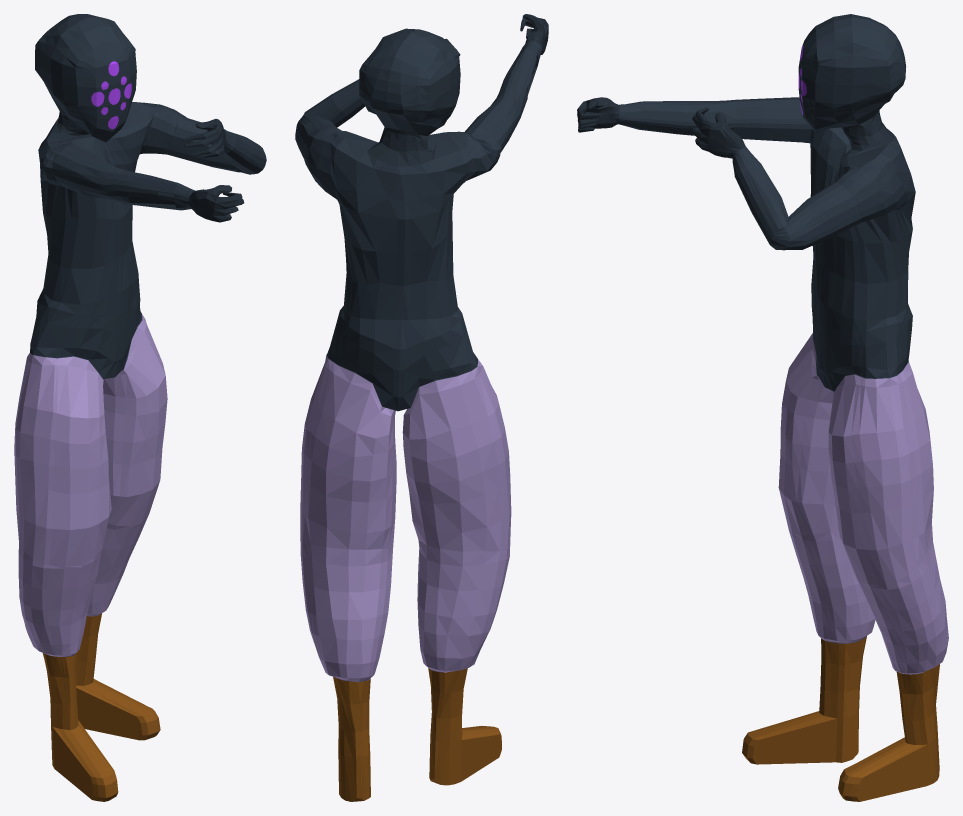
File: Oracle_Attack_000014.obj
3 views of the same model, side by side, from view 1: azimuth 30°, elevation 25°; view 2: azimuth 150°, elevation 25°; view 3: azimuth 270°, elevation 25° (orthographic). The views are drawn at different scales.
Parts seen in each view (by area): view 1: Cube; view 2: Cube; view 3: Cube.
Boxes of the visible parts, left/top/right/bottom form: Cube: left=14, top=14, right=266, bottom=801; Cube: left=295, top=14, right=548, bottom=801; Cube: left=577, top=14, right=948, bottom=801.
Bounding box in the file's own units: 1.25 × 3.94 × 1.75.
